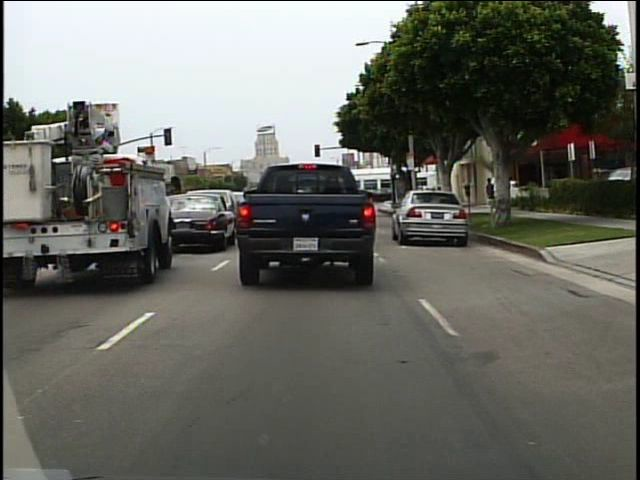person: (484, 177, 497, 210)
